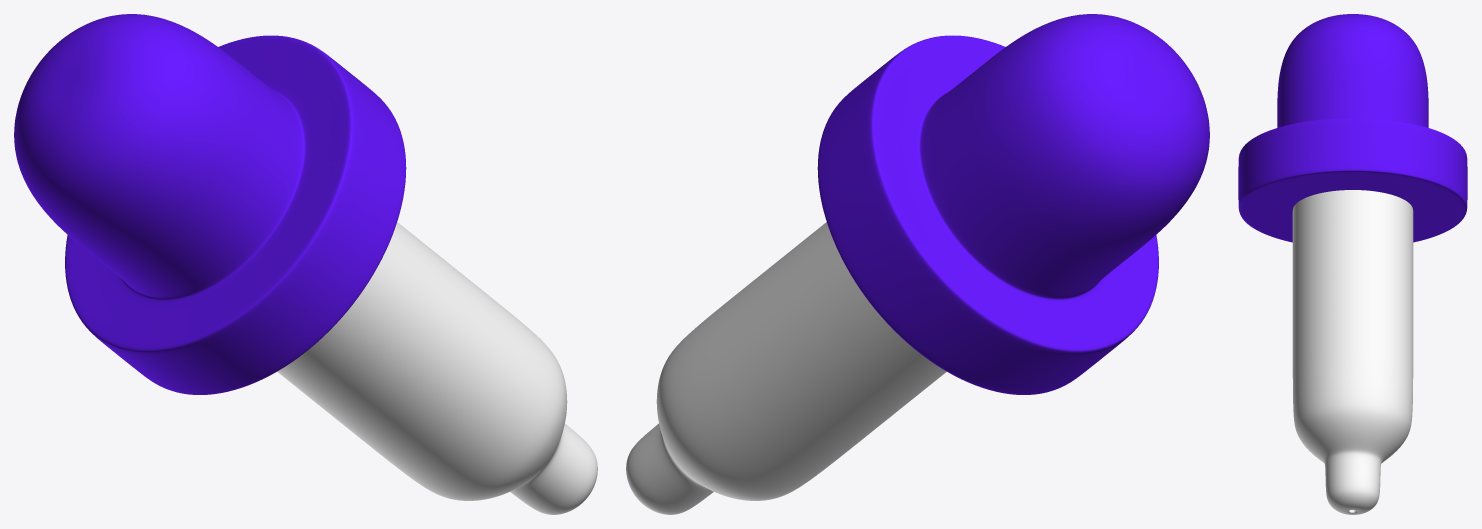
File: eyedropper.glb
The picture shows the model from 3 angles, left to right: view 1: azimuth 30°, elevation 25°; view 2: azimuth 150°, elevation 25°; view 3: azimuth 270°, elevation 25°; orthographic projection. The views are drawn at different scales.
Visible parts, largest first — view 1: Cylinder.003; view 2: Cylinder.003; view 3: Cylinder.003.
Part boxes in pixels (x1=…): Cylinder.003: x1=14, y1=14, x2=597, y2=514; Cylinder.003: x1=626, y1=14, x2=1209, y2=514; Cylinder.003: x1=1238, y1=14, x2=1467, y2=514.
Size of the model in its own units: 1.95 by 1.95 by 1.1.
